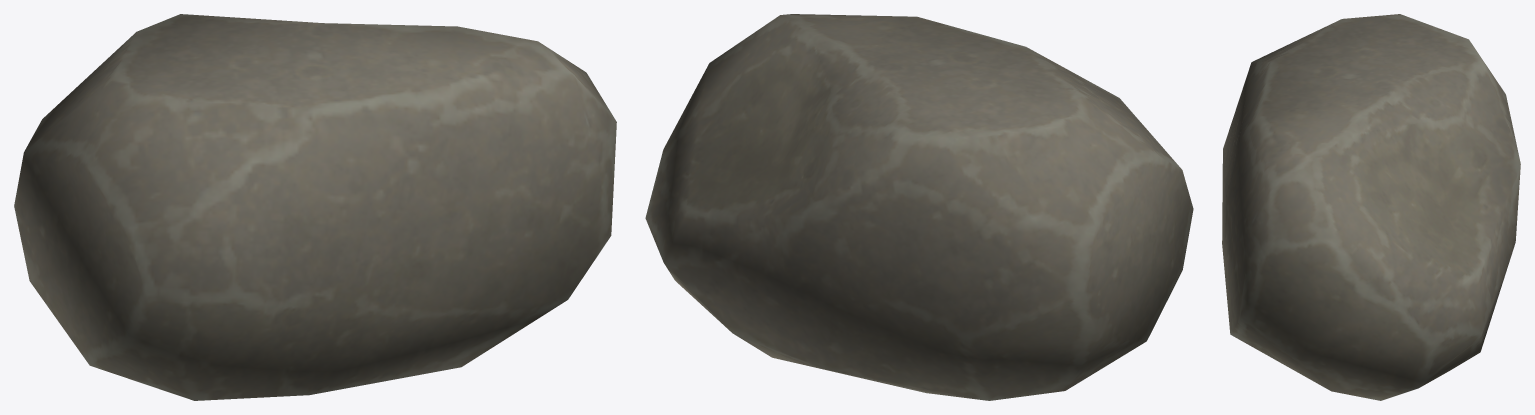
The model's file is MSH_fwOF_Debris_Single_04.fbx.
3 views of the same model, side by side, from view 1: azimuth 30°, elevation 25°; view 2: azimuth 150°, elevation 25°; view 3: azimuth 270°, elevation 25° (orthographic). The views are drawn at different scales.
Visible parts, largest first — view 1: MSH_fwOF_Debris_Single_04_LOD0; view 2: MSH_fwOF_Debris_Single_04_LOD0; view 3: MSH_fwOF_Debris_Single_04_LOD0.
Part boxes in pixels (x1=…): MSH_fwOF_Debris_Single_04_LOD0: x1=14, y1=14, x2=616, y2=400; MSH_fwOF_Debris_Single_04_LOD0: x1=645, y1=14, x2=1193, y2=400; MSH_fwOF_Debris_Single_04_LOD0: x1=1222, y1=14, x2=1520, y2=400.
Size of what is drawn, in the model's own units: 0.4919 by 0.286 by 0.3089.
